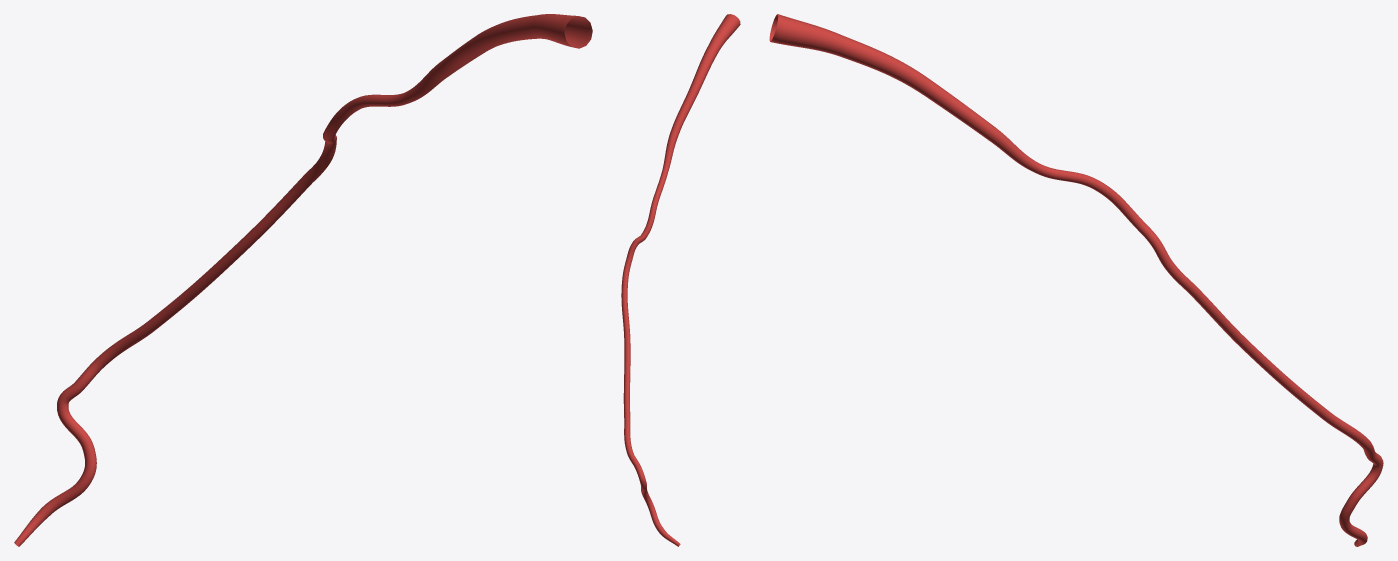
3 renders of one model, left to right at view 1: azimuth 30°, elevation 25°; view 2: azimuth 150°, elevation 25°; view 3: azimuth 270°, elevation 25°, orthographic. The views are drawn at different scales.
Visible parts, largest first — view 1: 左侧下牙槽动脉; view 2: 左侧下牙槽动脉; view 3: 左侧下牙槽动脉.
Boxes of the visible parts, x1,y1,x2,y2 form: 左侧下牙槽动脉: (14,14,592,546); 左侧下牙槽动脉: (621,14,740,546); 左侧下牙槽动脉: (769,14,1383,546).
Size of the model in its own units: 0.0355 by 0.0986 by 0.0871.
